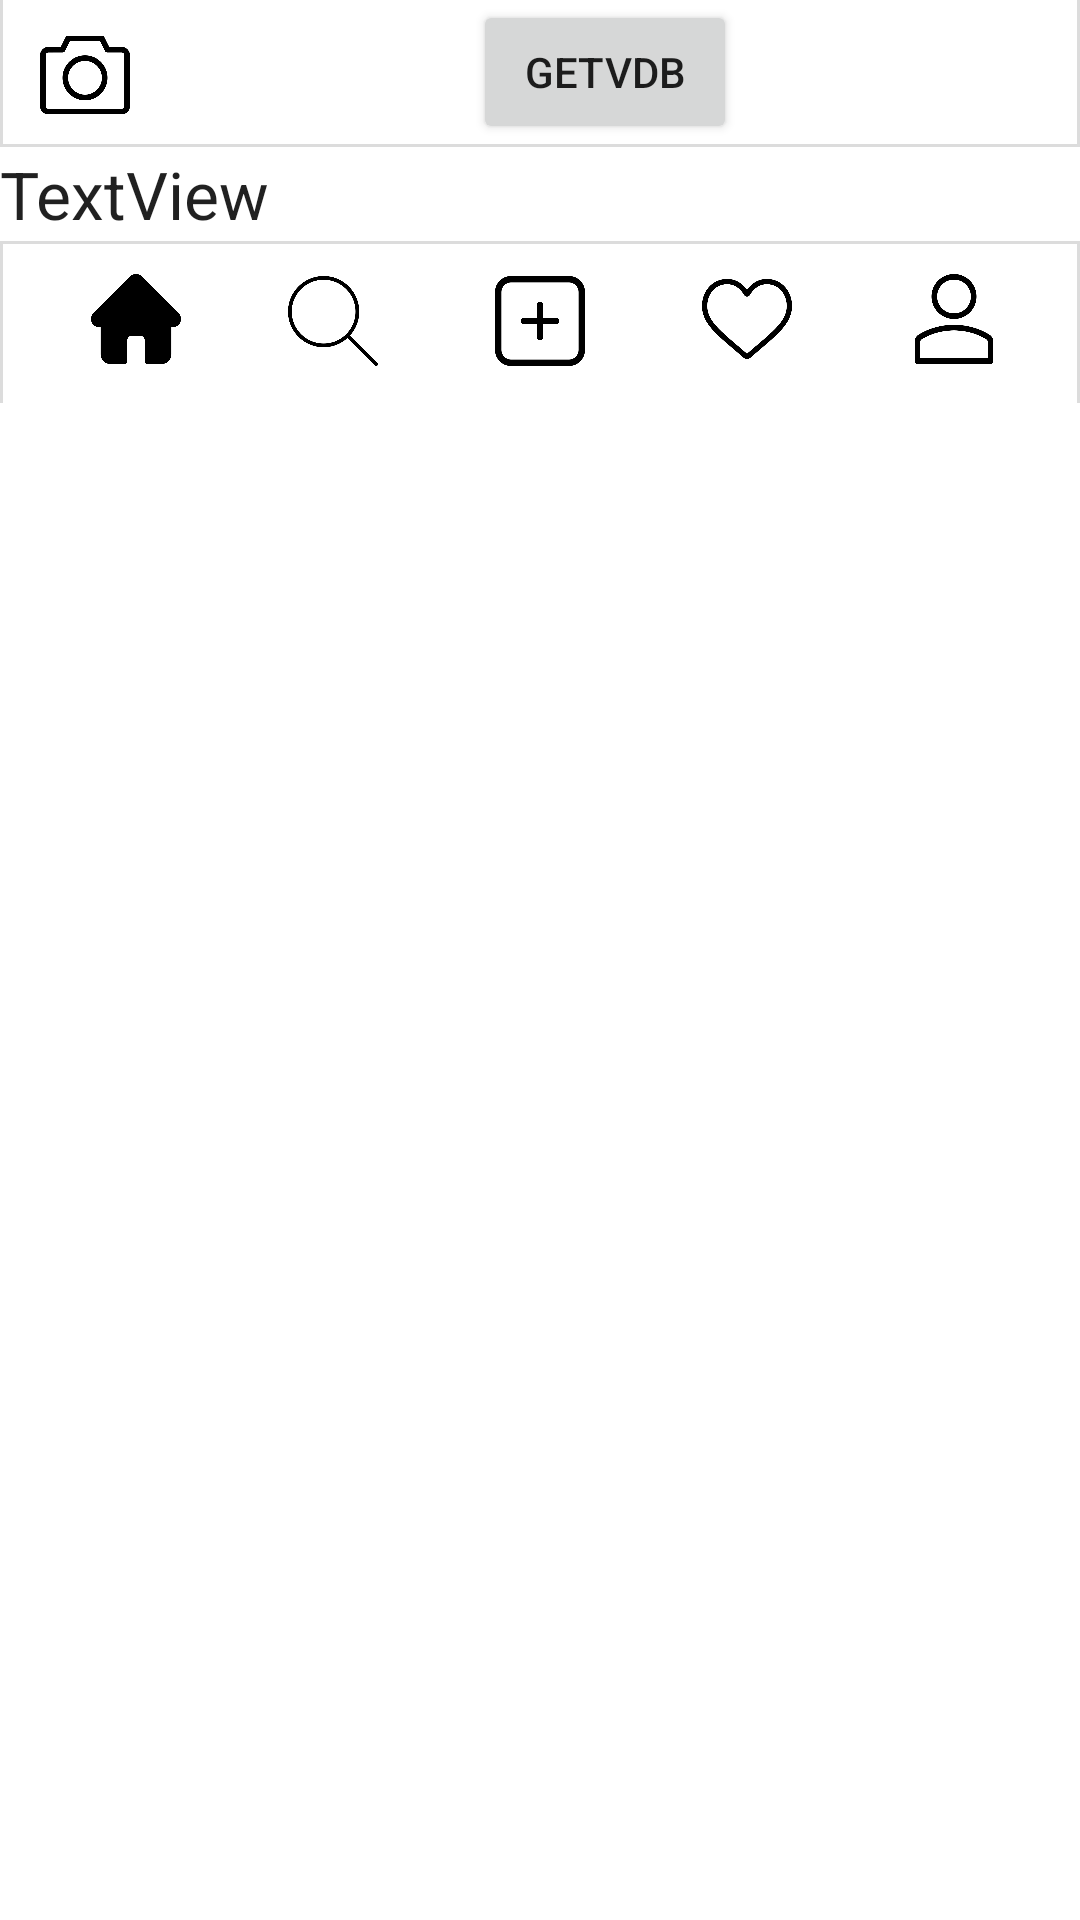

Screen size 1080*1920. Icon name, then its center in pixels as point (x, y):
camerabutton: point (85, 75)
